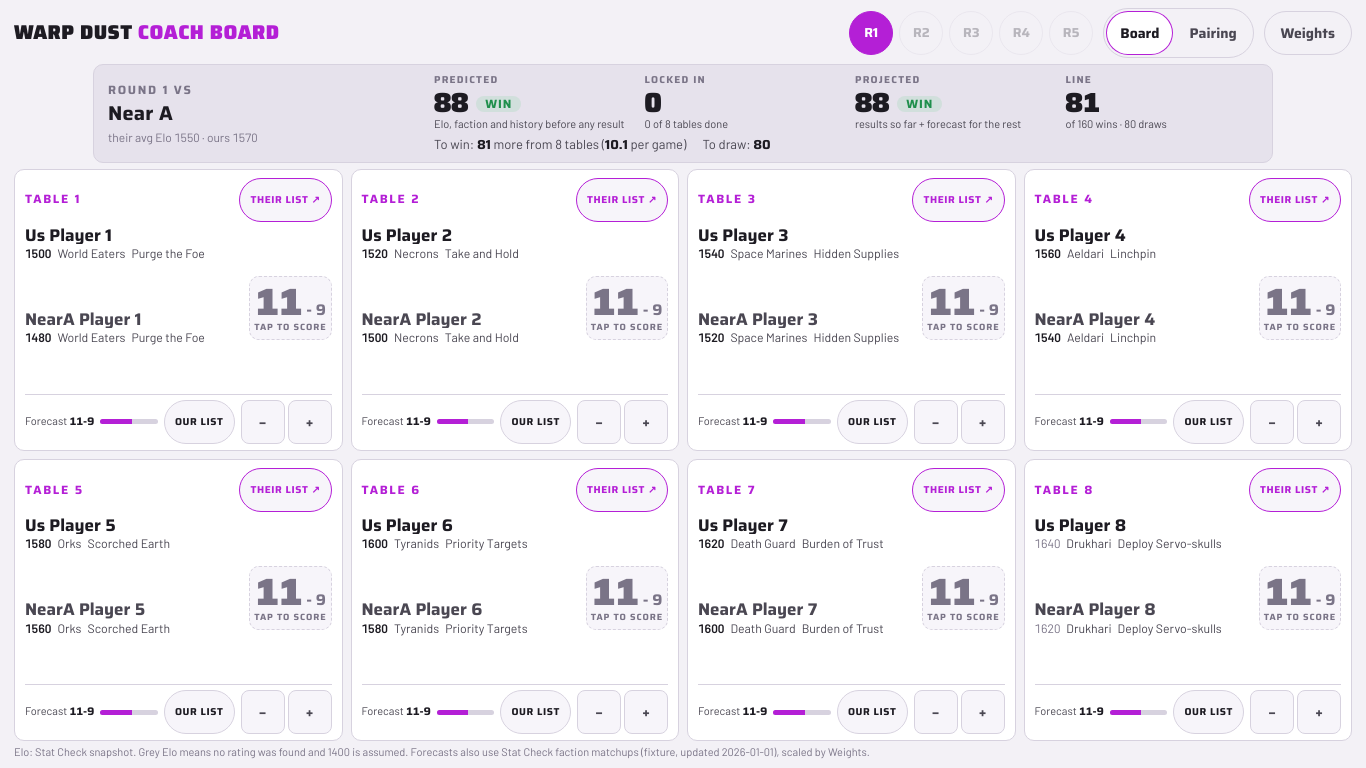
Scenario: board save queue and poll race › toasts an unavailable reply, closes the PIN form, rolls back and keeps polling
Click the button named "Forecast one higher for table 1" at (310, 422), box [288,400,332,444]
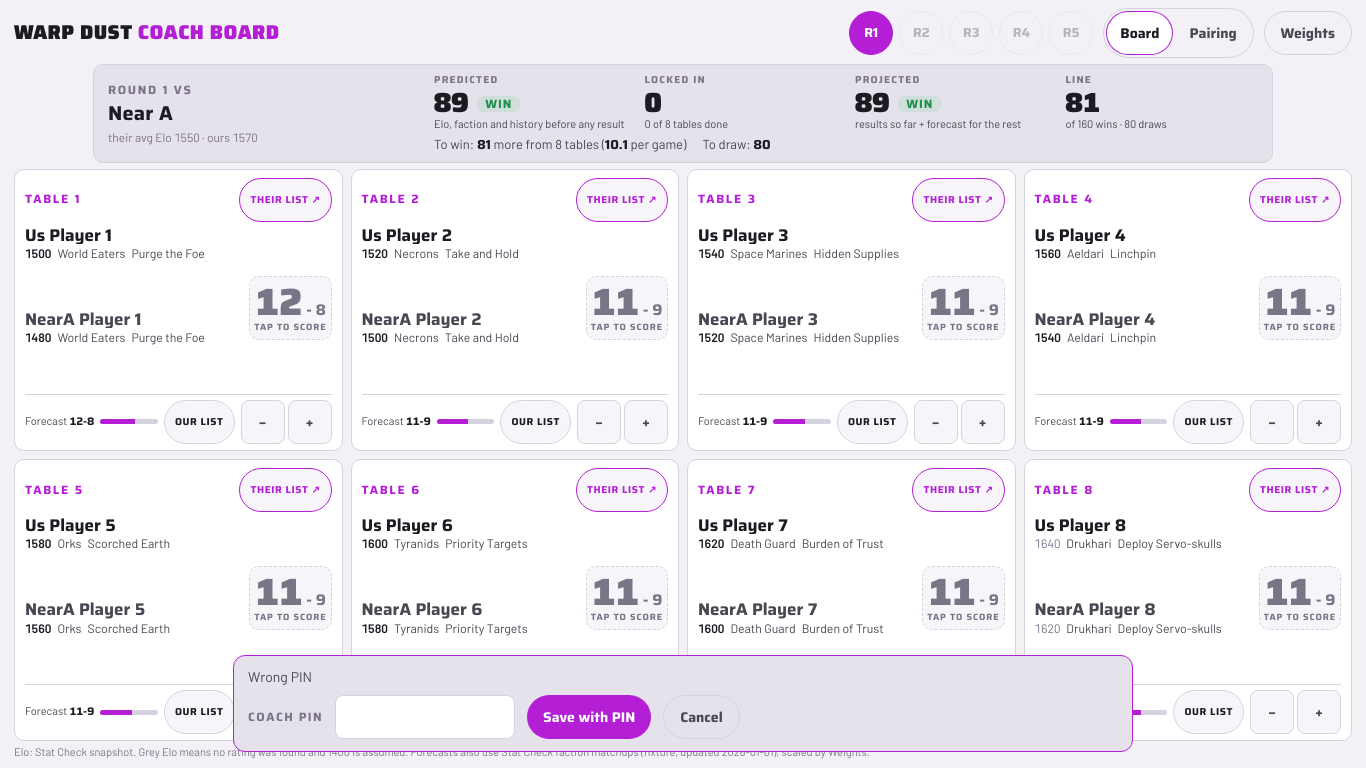
Type "0000" into the password field labelled "Coach PIN" at (425, 717), box [335,695,515,739]
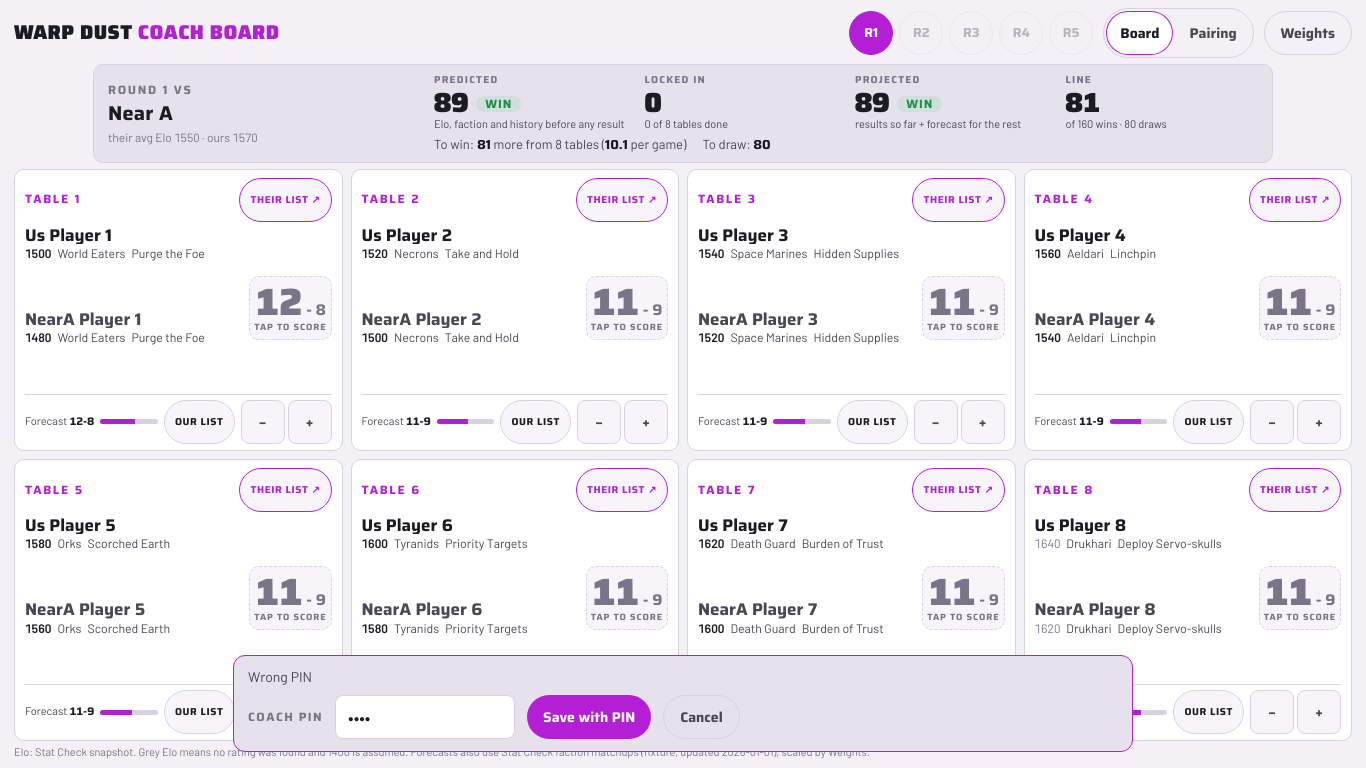
Click the button "Save with PIN" at (589, 717), box [527,695,651,739]
Wait 30000 ms
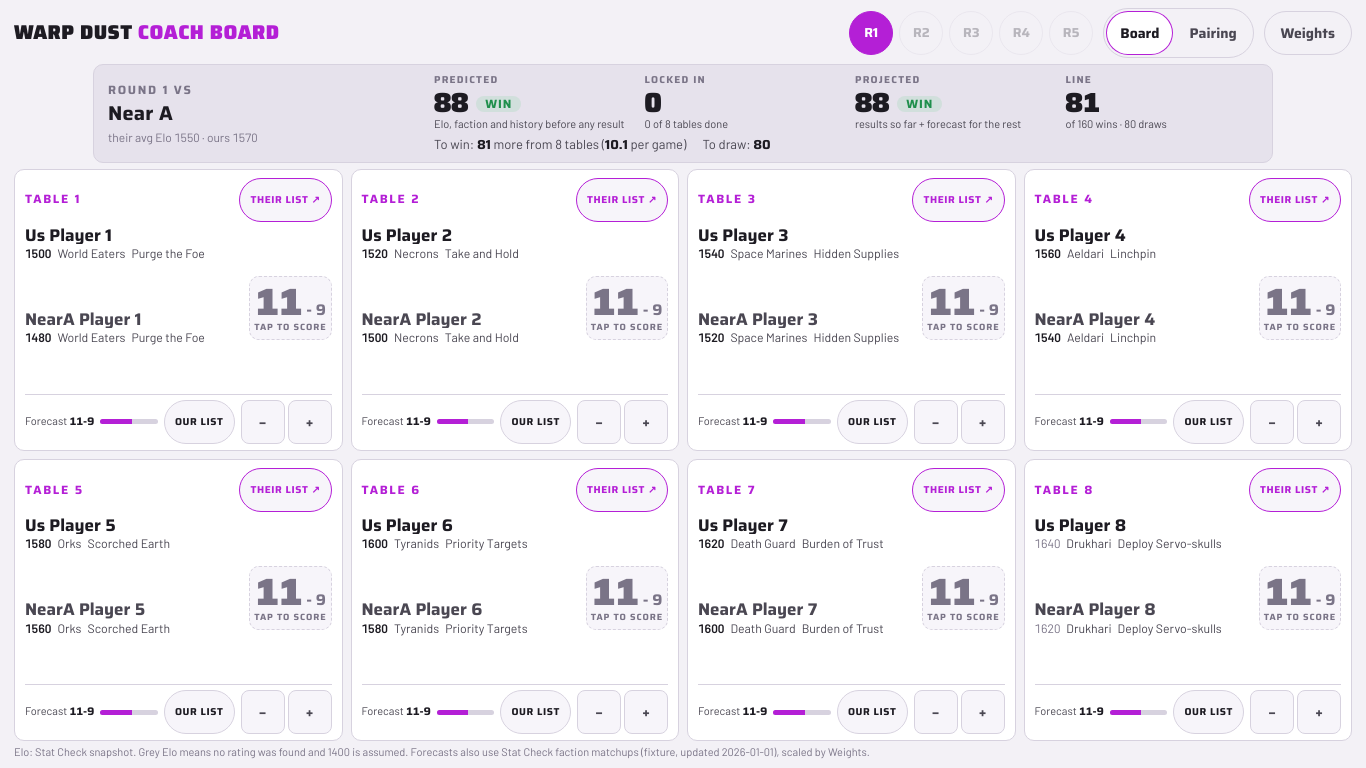
Result: the label labelled "Coach PIN" is gone
Result: the text "Forecast 11-9" below "1480" is shown at [25,414,94,430]
